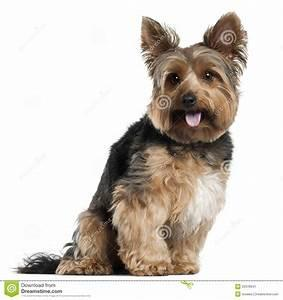dog: (12, 10, 248, 276)
